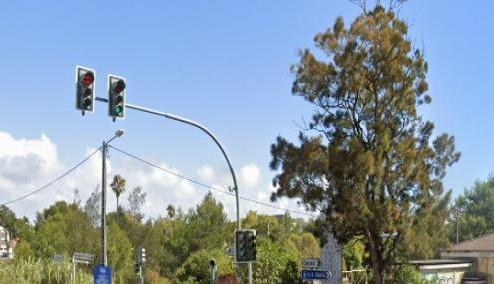green_light: (107, 74, 126, 119)
red_light: (76, 66, 95, 113)
